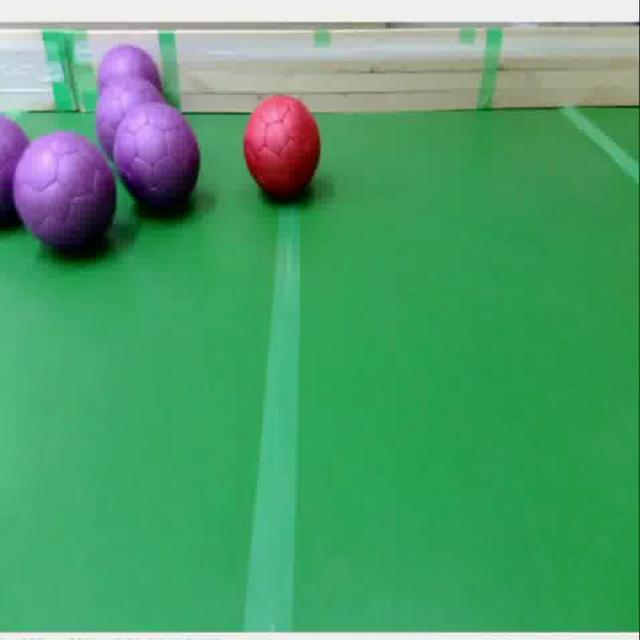purple_ball: (17, 137, 119, 260), (116, 104, 200, 216), (94, 79, 171, 164), (0, 113, 32, 227), (98, 41, 162, 92)
red_ball: (243, 94, 325, 202)
